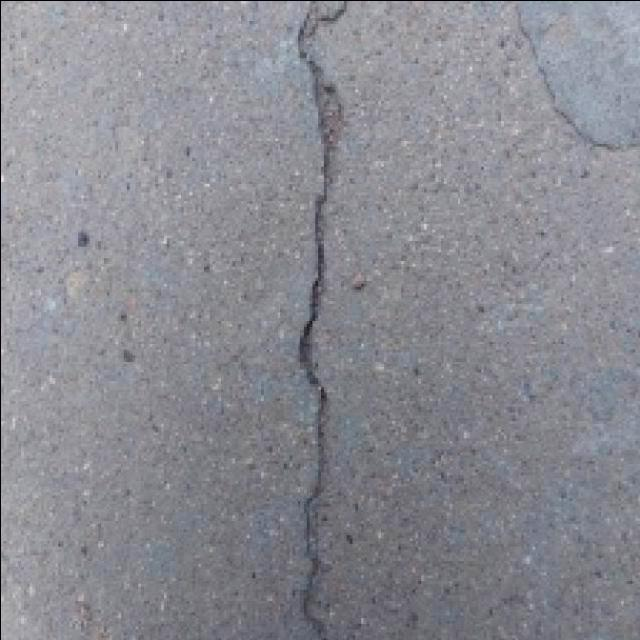SurfaceCrack: (240, 0, 382, 640)
